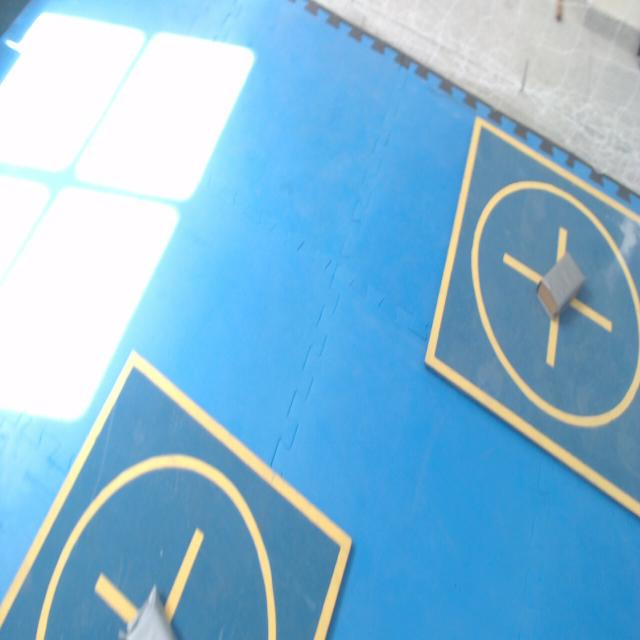direita: (538, 252, 584, 317)
esquerda: (120, 586, 175, 639)
